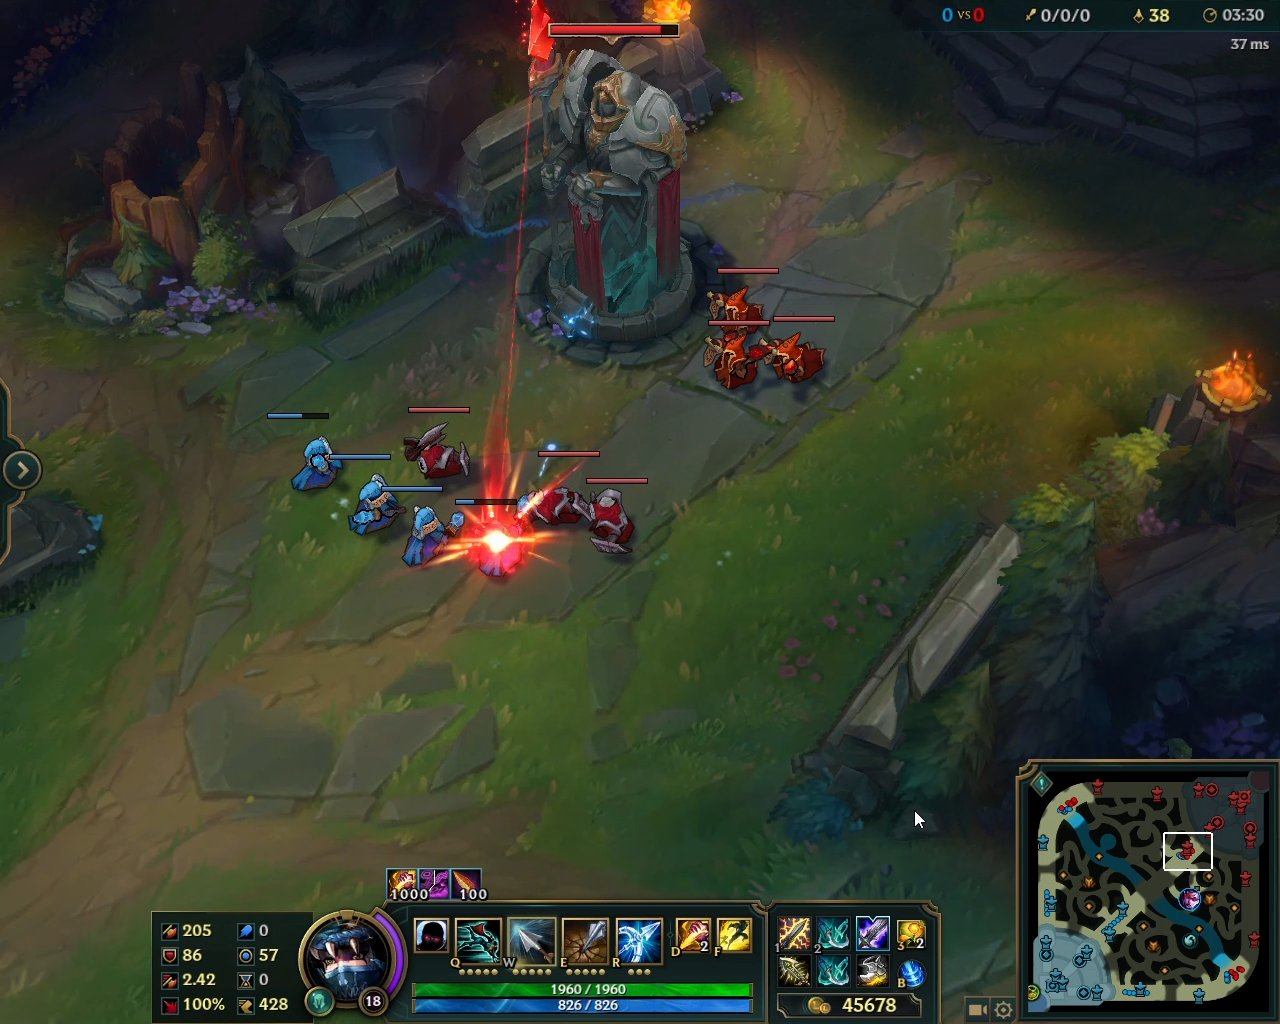EnemyMinion: (519, 450, 601, 531), (402, 403, 474, 488), (694, 317, 772, 394), (581, 472, 650, 557), (706, 265, 783, 338), (764, 315, 836, 388)
Tower: (511, 1, 721, 357)
